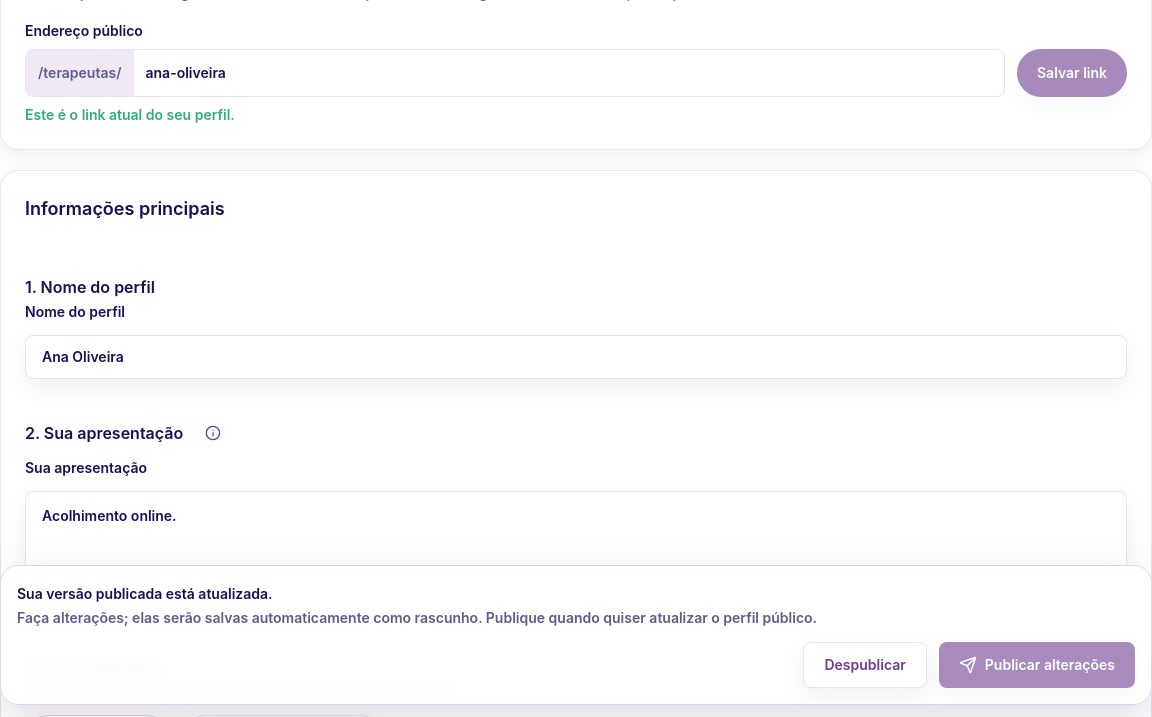
Test: TherapistProfileEditorPage › shows the actionable reason returned for an invalid profile field
This screenshot has width=1152, height=717.
(page scrolled)
Replace the text in the field labelled "Nome do perfil" with "Ana com vídeo inválido" at x=576, y=357, box [25,335,1127,379]
Wait 1200 ms
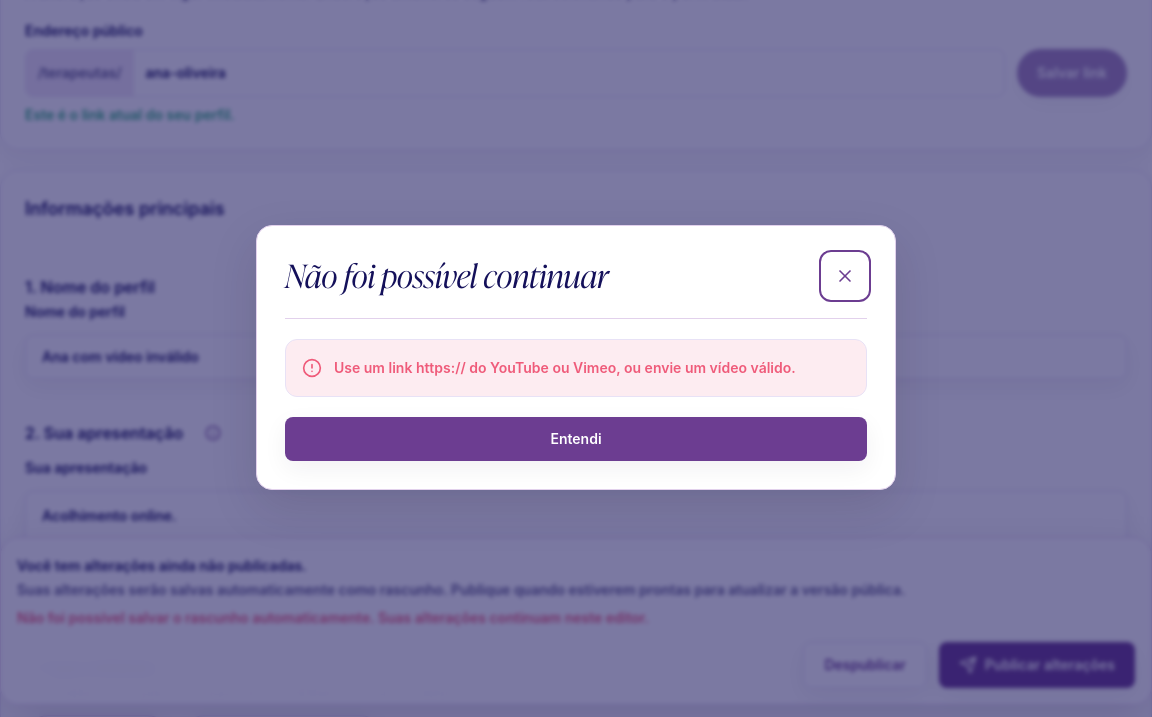
Expected: the text "Use um link https:// do YouTube ou Vimeo, ou envie um vídeo válido." is shown 2 times
